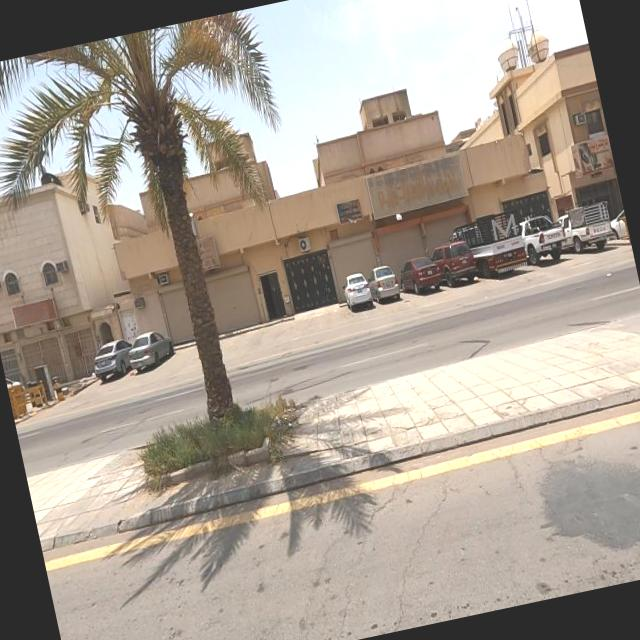debris: (315, 120, 526, 260), (0, 273, 92, 354)
